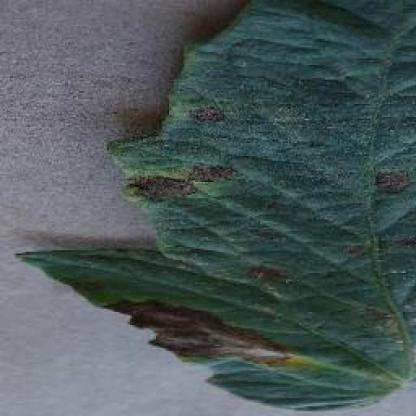Tomato_Blight: (16, 0, 416, 409)
